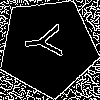Y: (23, 22, 72, 61)
